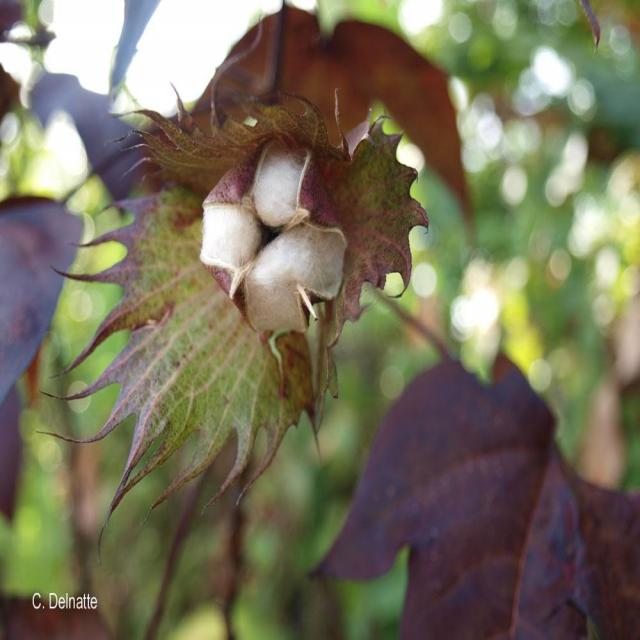Late_blight: (97, 84, 429, 492)
